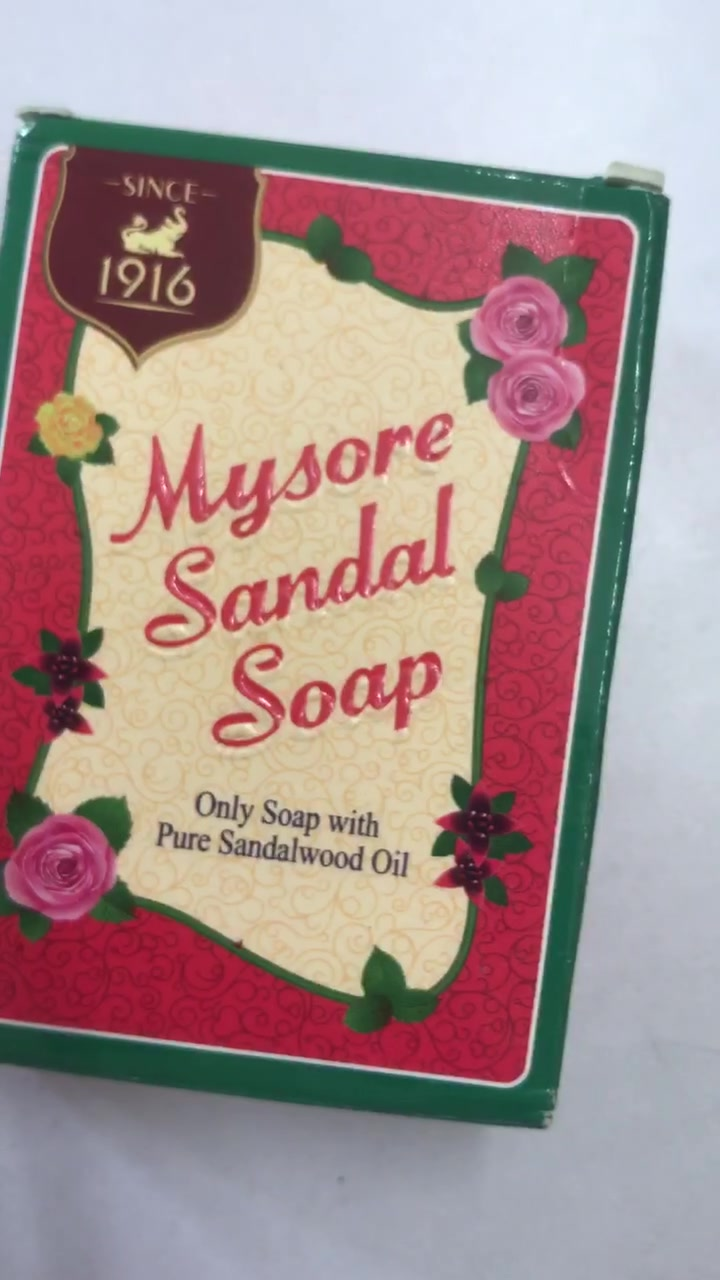mysore sandal soap: (17, 123, 658, 1131)
